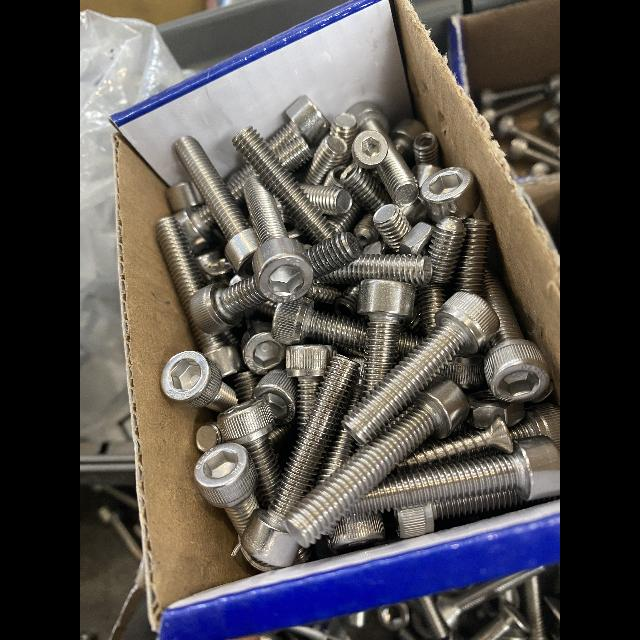Stainless Steel: (284, 374, 469, 548), (241, 354, 359, 566), (347, 293, 499, 442), (345, 435, 560, 515), (155, 217, 245, 378), (233, 127, 342, 242), (175, 137, 260, 280), (244, 170, 314, 302), (484, 274, 550, 401), (346, 102, 418, 207), (217, 396, 282, 508), (312, 357, 365, 490), (357, 280, 417, 397), (393, 489, 528, 538), (399, 413, 513, 470), (195, 442, 259, 538), (272, 298, 368, 349), (286, 344, 338, 436), (161, 351, 237, 412), (189, 277, 268, 335), (319, 254, 433, 287), (268, 95, 332, 153), (420, 167, 480, 223), (453, 218, 490, 294), (463, 388, 525, 432), (241, 316, 286, 375), (428, 217, 466, 283), (339, 163, 391, 211), (253, 370, 297, 426), (308, 232, 362, 277), (305, 133, 350, 185), (510, 403, 560, 448), (328, 512, 385, 551), (173, 204, 217, 254), (373, 204, 411, 251), (299, 183, 352, 216), (415, 283, 447, 337), (391, 119, 425, 167), (441, 354, 486, 389), (352, 130, 389, 169), (279, 137, 312, 173), (196, 252, 233, 283), (399, 222, 433, 255), (167, 182, 201, 212), (231, 370, 260, 403), (353, 213, 380, 248), (267, 421, 295, 452), (413, 132, 439, 164), (334, 285, 359, 317), (304, 283, 342, 304), (196, 423, 222, 452), (244, 299, 278, 320), (227, 162, 253, 189), (332, 113, 357, 138), (398, 332, 421, 358), (324, 165, 347, 187), (230, 184, 244, 206)
